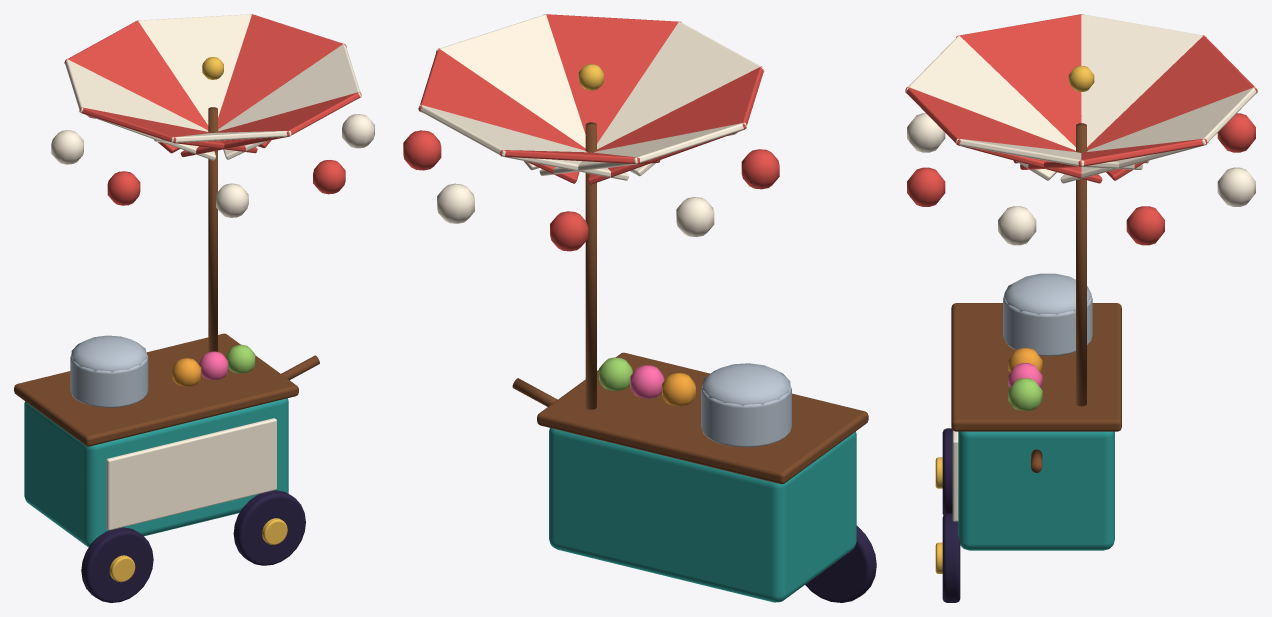
The model's file is food_cart.glb.
The picture shows the model from 3 angles, left to right: view 1: azimuth 30°, elevation 25°; view 2: azimuth 150°, elevation 25°; view 3: azimuth 270°, elevation 25°; orthographic projection. The views are drawn at different scales.
Parts seen in each view (by area): view 1: food_cart; view 2: food_cart; view 3: food_cart.
Boxes of the visible parts, box(x1,y1,x2,y2) form: food_cart: box(14, 14, 374, 602); food_cart: box(403, 14, 876, 602); food_cart: box(905, 14, 1257, 602).
Bounding box in the file's own units: 1.89 × 2.62 × 1.57.
